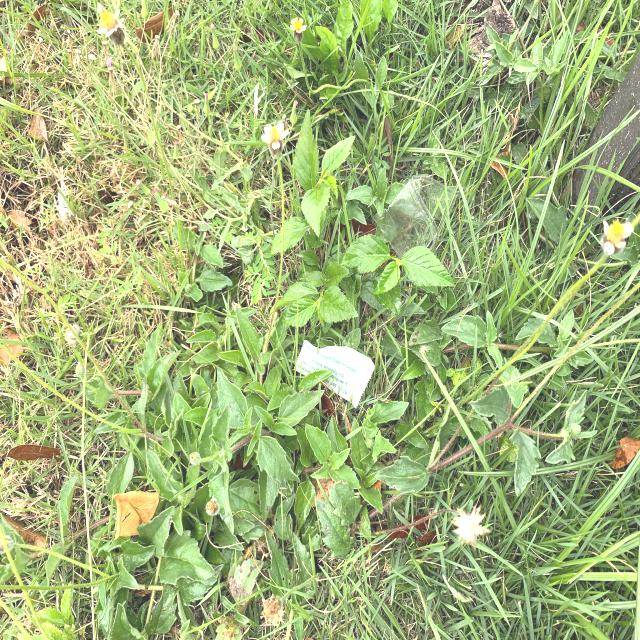Other plastic: (294, 342, 375, 407)
Plastic film: (372, 175, 460, 258)
